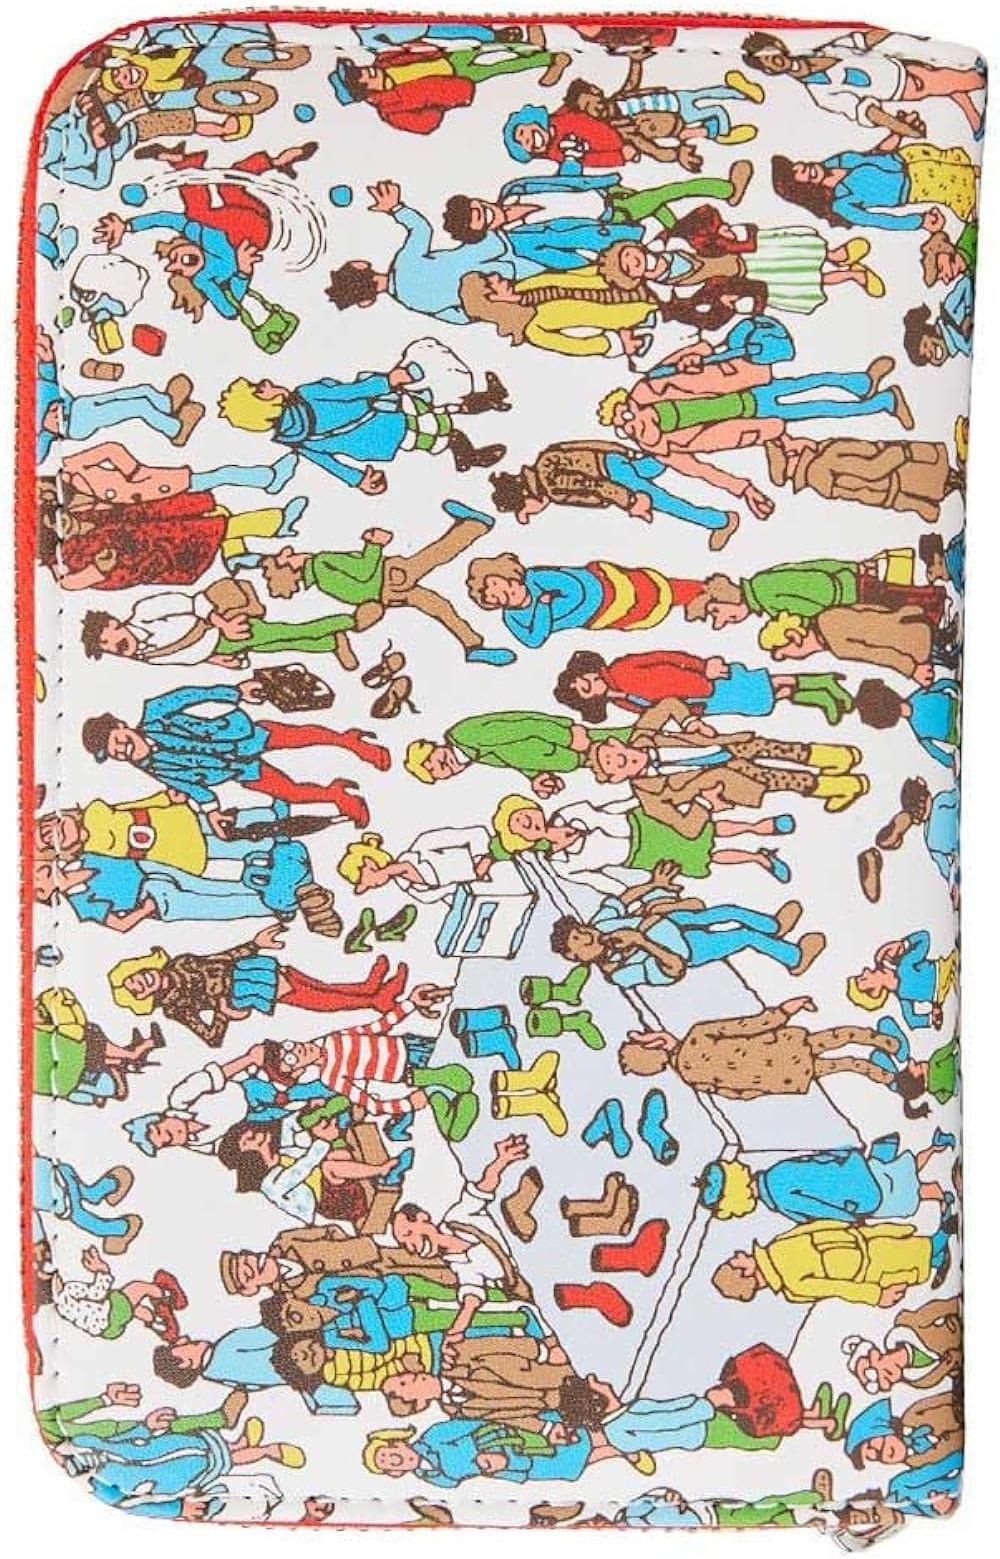waldos: (267, 1004, 431, 1114)
